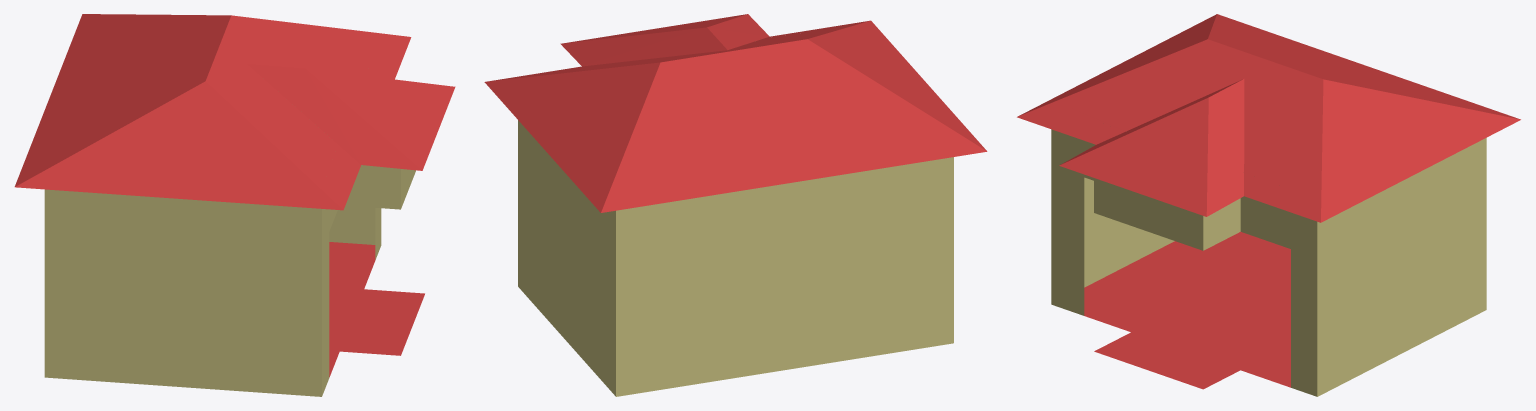
3 views of the same model, side by side, from view 1: azimuth 30°, elevation 25°; view 2: azimuth 150°, elevation 25°; view 3: azimuth 270°, elevation 25° (orthographic). The views are drawn at different scales.
Parts seen in each view (by area): view 1: group_5, group_3, group_7, group_6, group_4, group_11, group_10, group_9; view 2: group_5, group_3, group_7, group_4, group_9; view 3: group_5, group_3, group_6, group_7, group_10, group_4, group_11, group_9.
Part boxes in pixels (x1,y1,x2,y2): group_5: (44, 165, 381, 396); group_3: (14, 14, 411, 210); group_7: (247, 64, 455, 170); group_6: (329, 242, 389, 377); group_4: (15, 14, 341, 209); group_11: (366, 291, 424, 355); group_10: (365, 165, 415, 209); group_9: (338, 83, 453, 170); group_5: (518, 120, 953, 396); group_3: (484, 20, 986, 212); group_7: (560, 14, 769, 66); group_4: (486, 21, 986, 212); group_9: (562, 14, 768, 66); group_5: (1051, 129, 1486, 396); group_3: (1017, 14, 1520, 222); group_6: (1084, 231, 1290, 387); group_7: (1059, 79, 1244, 216); group_10: (1094, 178, 1224, 250); group_4: (1019, 15, 1520, 221); group_11: (1094, 340, 1224, 389); group_9: (1061, 130, 1243, 215).
Bounding box in the file's own units: 19.89 × 20.33 × 11.09.
